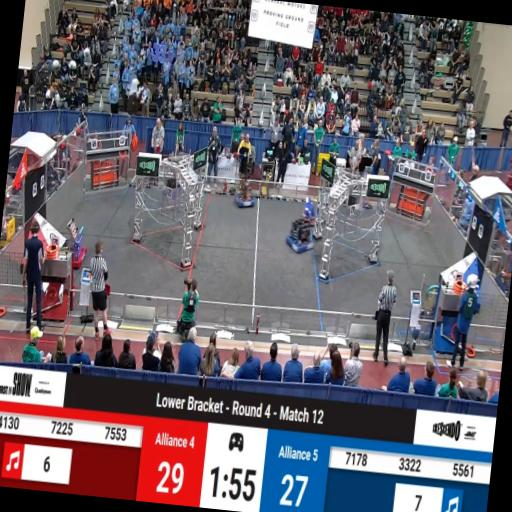robot: (60, 222, 90, 269), (284, 216, 314, 254), (236, 181, 258, 209)
